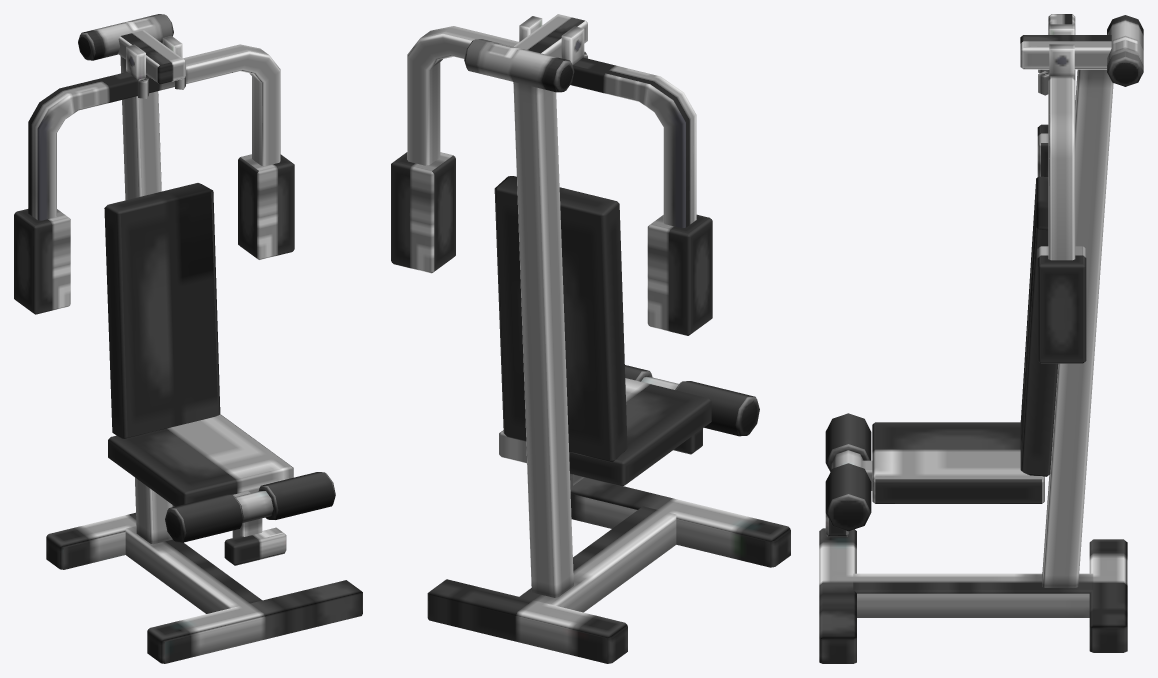
Rendered from int_fns_butterfly.dae.
3 views of the same model, side by side, from view 1: azimuth 30°, elevation 25°; view 2: azimuth 150°, elevation 25°; view 3: azimuth 270°, elevation 25° (orthographic). The views are drawn at different scales.
Parts seen in each view (by area): view 1: int_fns_butterfly; view 2: int_fns_butterfly; view 3: int_fns_butterfly.
Part boxes in pixels (box(x1,y1,x2,y2)): int_fns_butterfly: box(14, 14, 362, 663); int_fns_butterfly: box(391, 14, 790, 663); int_fns_butterfly: box(819, 14, 1143, 663).
Bounding box in the file's own units: 30.74 × 57.87 × 29.7.
1 material, 1 textured.
